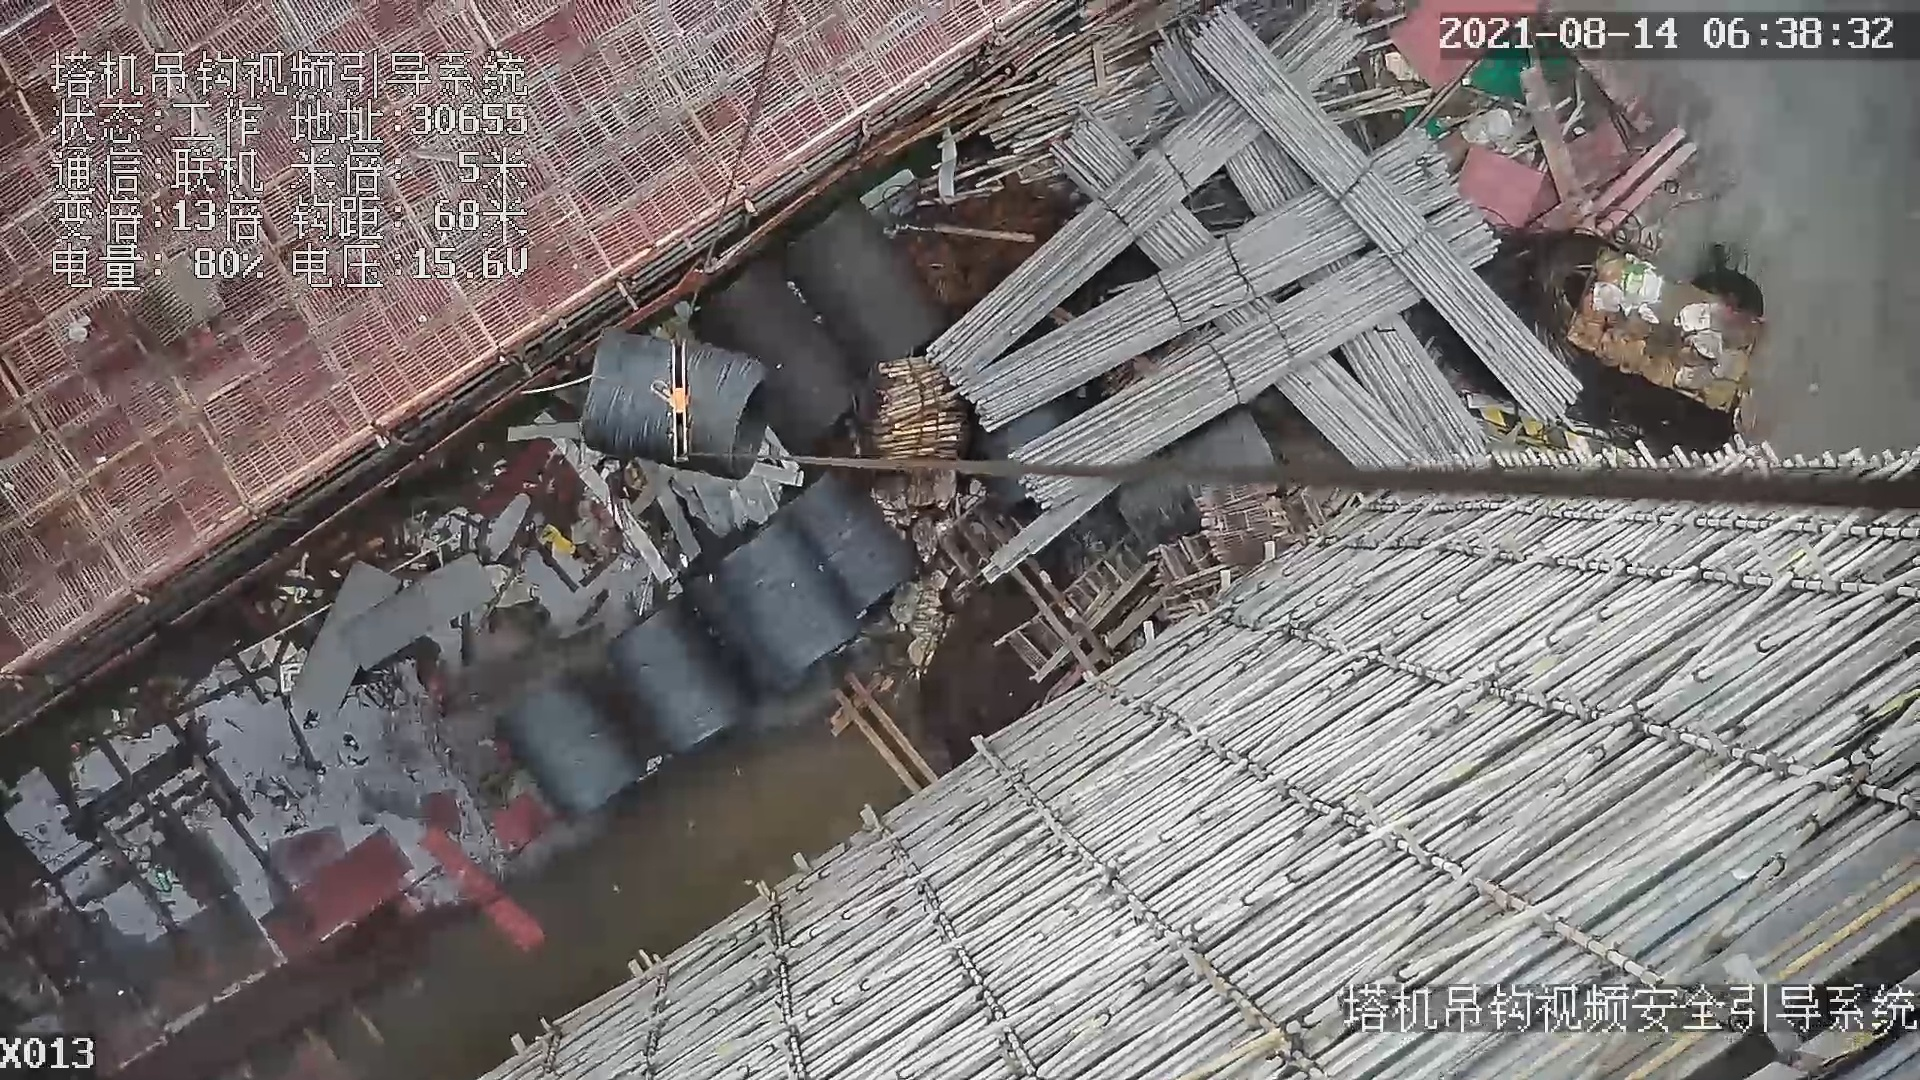hook: (653, 335, 695, 464)
